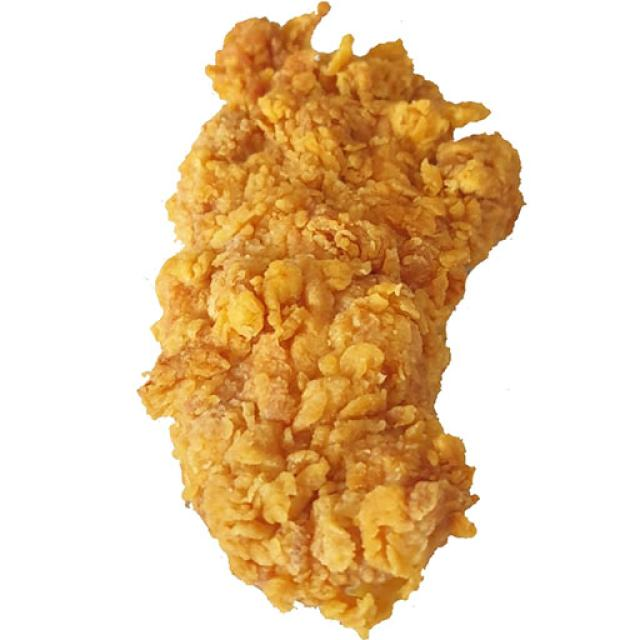Frango: (107, 2, 513, 627)
